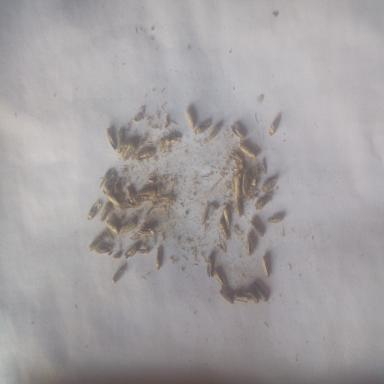pbw: (150, 193, 177, 208), (88, 228, 104, 252), (87, 198, 101, 220), (252, 282, 268, 301), (207, 122, 223, 140), (248, 165, 259, 191), (230, 151, 244, 171), (255, 194, 272, 210), (239, 142, 256, 158), (120, 218, 137, 234), (249, 220, 265, 237), (112, 265, 126, 284), (100, 200, 112, 222), (232, 169, 241, 198), (262, 176, 278, 192), (105, 218, 120, 235), (219, 217, 230, 240), (269, 115, 281, 136), (195, 119, 211, 134), (106, 190, 120, 207), (220, 287, 234, 304), (103, 174, 115, 193), (119, 198, 136, 211), (122, 141, 134, 159), (138, 147, 156, 159), (232, 290, 250, 302), (107, 127, 116, 150), (162, 134, 179, 146), (214, 269, 226, 286), (186, 106, 195, 128), (124, 244, 138, 258), (231, 123, 244, 138), (262, 255, 270, 278), (126, 185, 136, 203), (206, 254, 214, 276), (120, 136, 136, 147), (117, 127, 124, 152), (246, 233, 254, 254), (224, 206, 231, 229), (138, 187, 158, 195), (267, 214, 284, 223), (156, 246, 162, 270), (94, 246, 112, 254), (138, 227, 154, 236), (242, 172, 248, 195), (201, 206, 208, 225), (236, 197, 242, 217)
